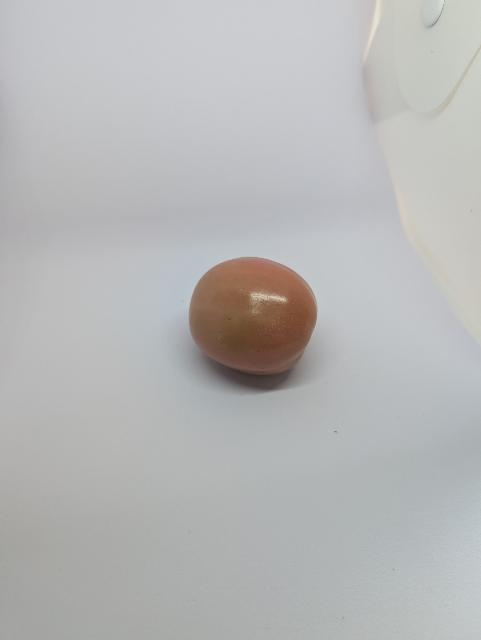red: (185, 253, 324, 383)
